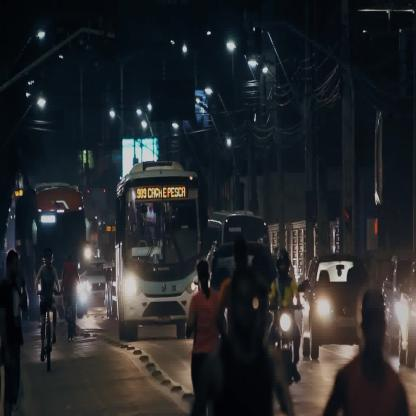bus: (115, 160, 201, 342)
car: (299, 256, 372, 361)
motorcycle: (269, 246, 302, 385)
